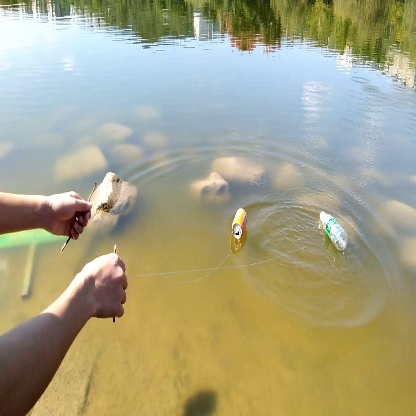bottle: (318, 208, 353, 253), (224, 204, 249, 246)
